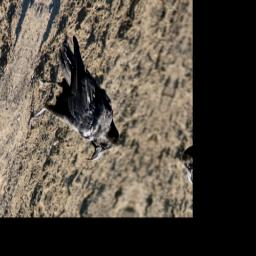Crow: (13, 29, 150, 167)
